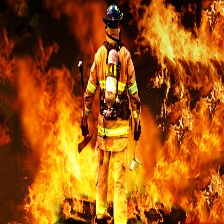fire: (1, 2, 224, 224)
